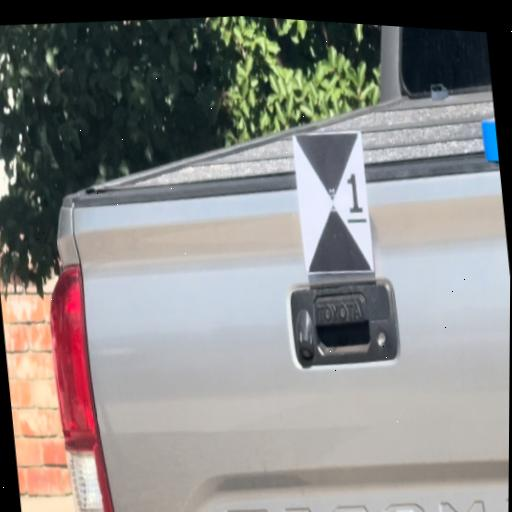target1: (291, 128, 374, 278)
